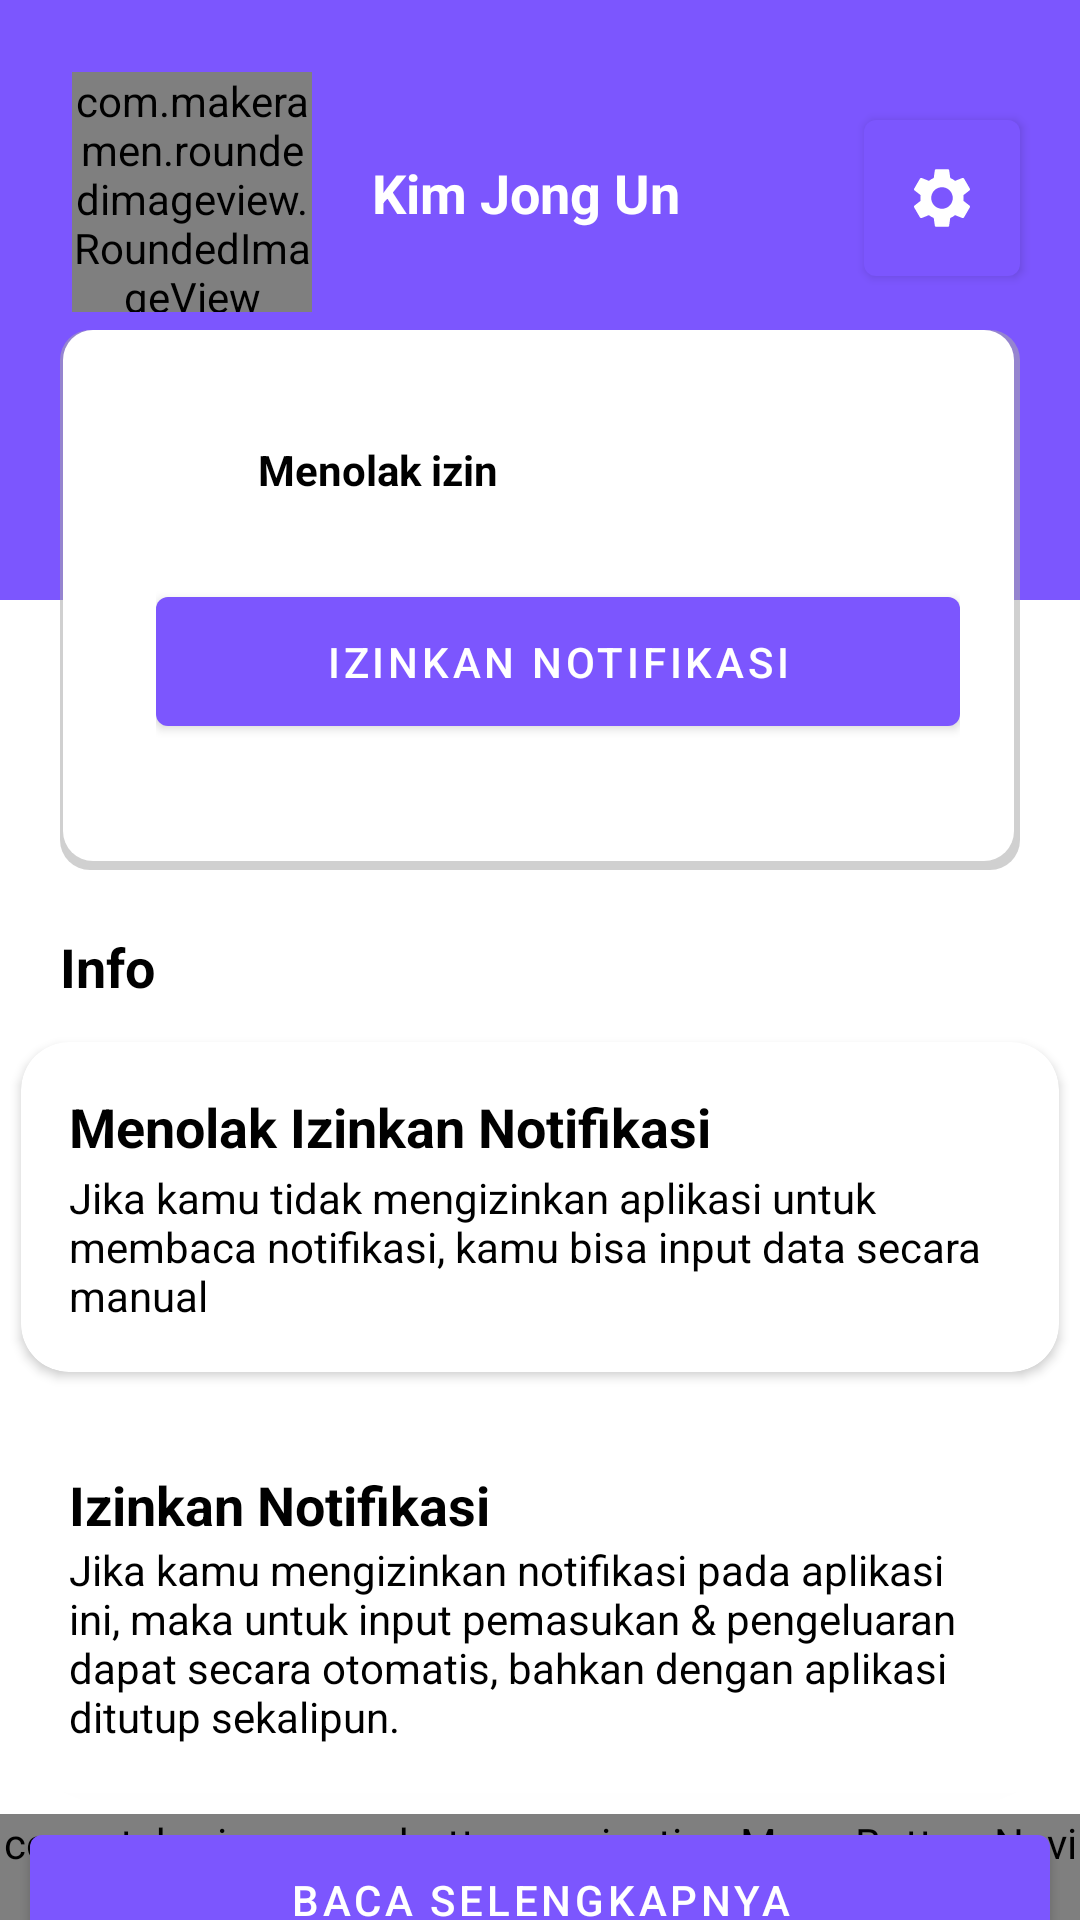

Screen size 1080x1920. Icon name, then its center in pixels as (x=x, y=y):
settings: (x=942, y=198)
